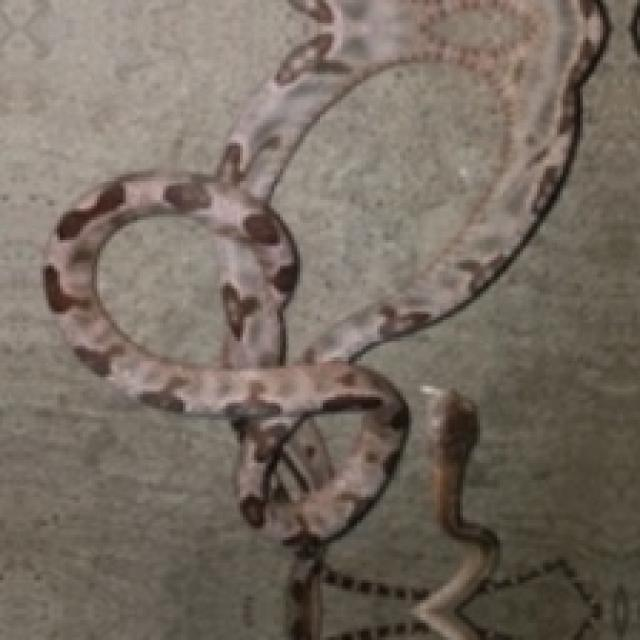dog-toothed cat snake: (42, 0, 609, 640)
